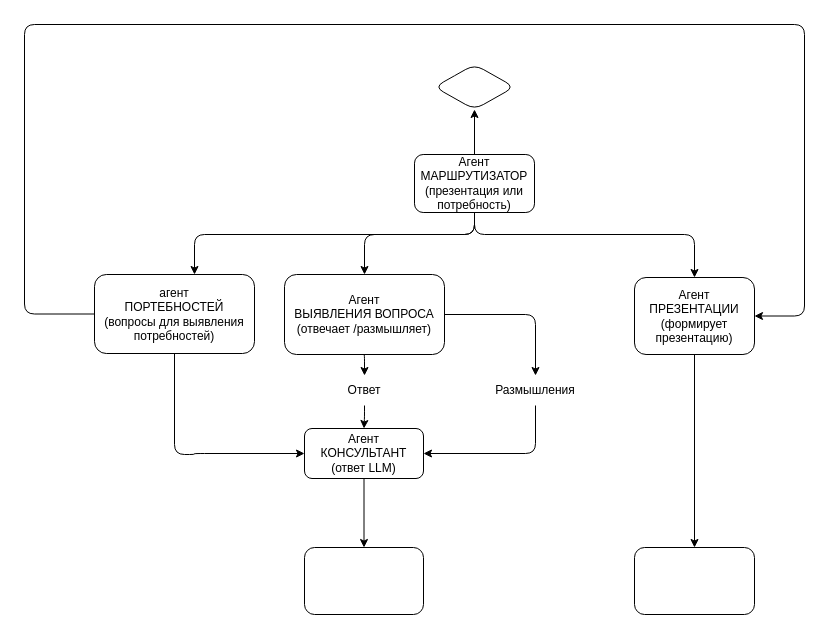
Some shapes in this 830 by 632 pixel diagram are drawn without their labels. Each missing label, with the centre of its shape:
"Агент СТИЛИЗАЦИИ 1 (форматирует ответ)" belongs at point 364,580.
"Агент СТИЛИЗАЦИИ 2 (форматирует ответ в стиле продажи)" belongs at point 694,580.
"Вопрос" belongs at point 474,87.
